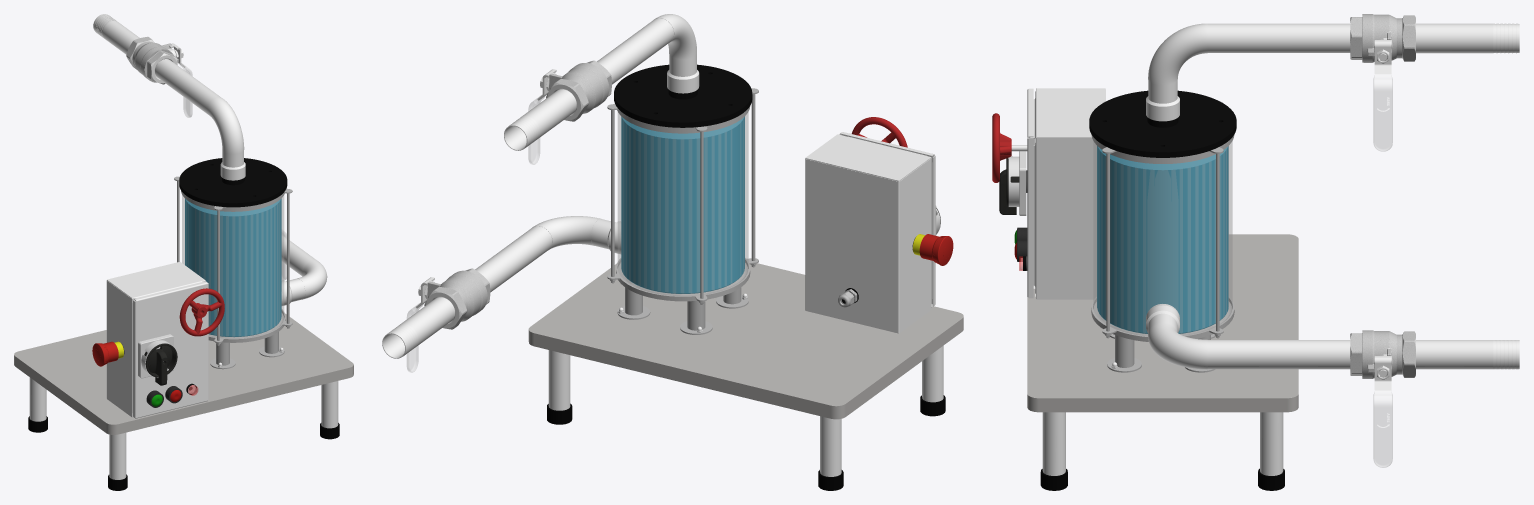
File: ESTACAO_ALUNO.glb
3 views of the same model, side by side, from view 1: azimuth 30°, elevation 25°; view 2: azimuth 150°, elevation 25°; view 3: azimuth 270°, elevation 25° (orthographic). The views are drawn at different scales.
Parts seen in each view (by area): view 1: Solid1 (×12), Sólido1 (×8); view 2: Solid1 (×13), Sólido1 (×7); view 3: Solid1 (×12), Sólido1 (×11).
Boxes of the visible parts, x1,y1,x2,y2 form: Solid1 (×12): (14,14,353,490); Sólido1 (×8): (106,36,292,418); Solid1 (×13): (382,14,963,490); Sólido1 (×7): (424,60,935,334); Solid1 (×12): (992,23,1519,490); Sólido1 (×11): (999,14,1415,467).
Size of the model in its own units: 0.6178 by 0.6132 by 0.6797.
34 materials, 5 textured.
